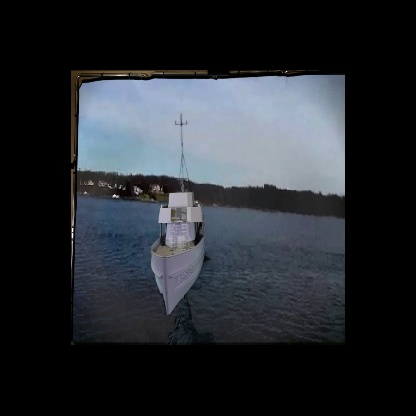YP689: (149, 112, 208, 315)
